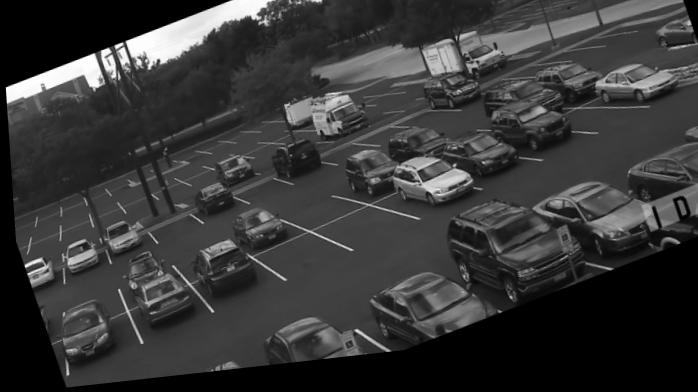empty: (319, 209, 416, 255), (251, 240, 334, 281), (561, 116, 644, 149), (144, 214, 203, 249), (59, 276, 110, 308), (290, 197, 345, 225), (169, 237, 213, 268), (353, 130, 406, 154), (234, 183, 286, 207), (396, 117, 454, 134), (321, 145, 365, 167), (566, 47, 620, 63), (57, 220, 91, 244), (115, 198, 157, 217), (149, 185, 191, 203), (26, 232, 59, 254), (139, 178, 176, 197), (88, 210, 123, 230), (447, 124, 489, 140), (243, 148, 282, 165), (87, 200, 119, 220), (27, 222, 57, 242), (169, 166, 204, 183), (79, 188, 110, 207), (504, 75, 549, 88), (57, 210, 86, 230), (540, 63, 588, 75), (113, 190, 146, 207), (352, 102, 398, 114), (227, 142, 261, 158), (180, 173, 212, 189), (101, 181, 131, 198), (24, 244, 54, 260), (250, 158, 275, 177), (272, 136, 311, 148), (196, 156, 229, 170), (59, 196, 82, 216), (254, 133, 288, 146), (169, 153, 204, 165), (34, 206, 57, 224), (199, 144, 231, 155), (177, 191, 198, 207), (12, 217, 31, 234), (224, 136, 253, 146), (246, 127, 277, 136), (12, 234, 27, 246), (15, 244, 25, 257)
occupied: (439, 209, 595, 315), (349, 275, 500, 353), (525, 193, 673, 268), (239, 309, 382, 371), (385, 163, 473, 222), (185, 243, 261, 302), (625, 158, 698, 219), (439, 139, 521, 189), (488, 112, 565, 165), (55, 299, 114, 366), (126, 271, 193, 330), (592, 78, 677, 117), (229, 212, 289, 257), (309, 100, 367, 146), (421, 77, 479, 122), (268, 144, 323, 191), (377, 135, 445, 173), (535, 76, 598, 116), (341, 159, 394, 205), (482, 91, 552, 122), (190, 186, 233, 221), (654, 31, 696, 63), (101, 224, 138, 257), (212, 161, 251, 192), (62, 241, 95, 275), (20, 256, 52, 291), (124, 255, 156, 286)
